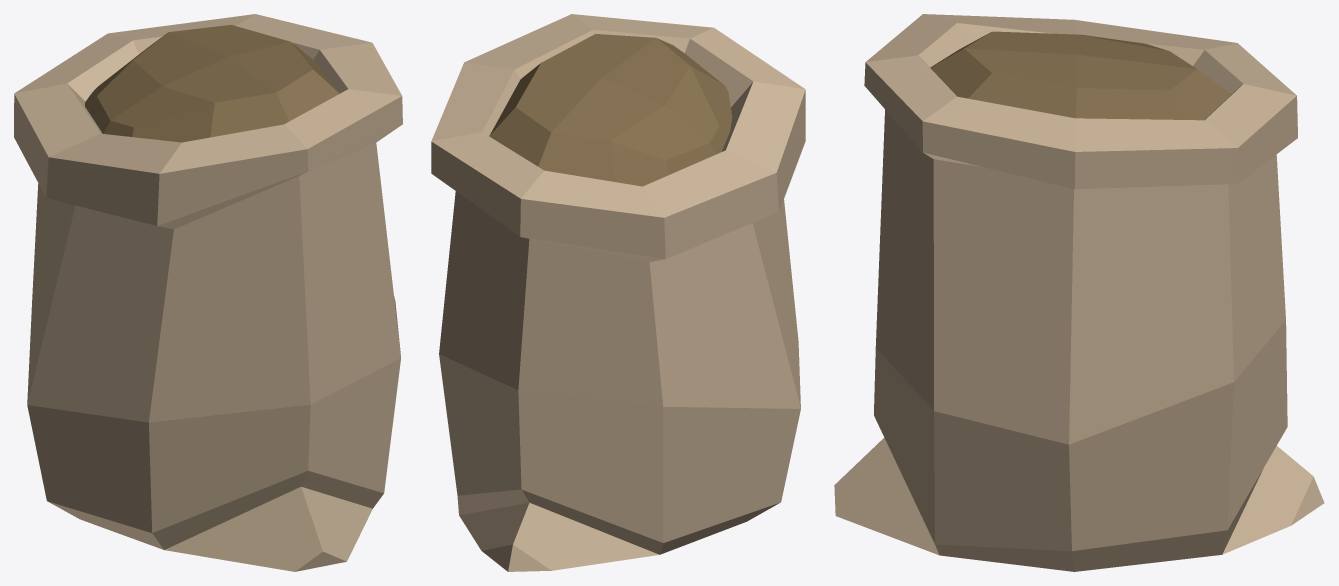
Rendered from SM_Prop_Sack_06.glb.
3 views of the same model, side by side, from view 1: azimuth 30°, elevation 25°; view 2: azimuth 150°, elevation 25°; view 3: azimuth 270°, elevation 25° (orthographic). The views are drawn at different scales.
Visible parts, largest first — view 1: SM_Prop_Sack_06; view 2: SM_Prop_Sack_06; view 3: SM_Prop_Sack_06.
Part boxes in pixels (x1=…): SM_Prop_Sack_06: x1=14, y1=14, x2=402, y2=571; SM_Prop_Sack_06: x1=431, y1=14, x2=805, y2=571; SM_Prop_Sack_06: x1=834, y1=14, x2=1324, y2=571.
Size of the model in its own units: 0.4508 by 0.5044 by 0.4831.
Materials: 1 (1 with a texture image).
